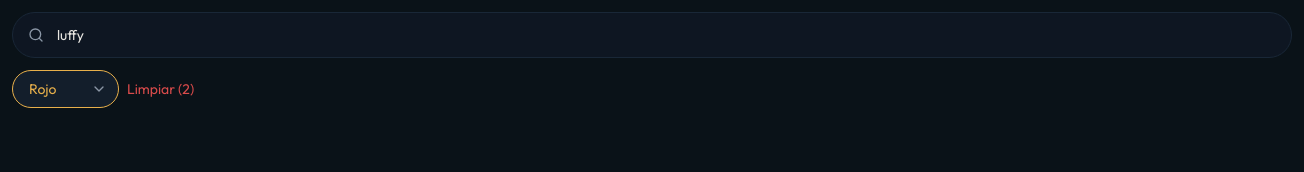
Test: LeaderFilters › Limpiar vacía el campo y navega a la ruta base
Click the button "Limpiar (2)" at (161, 89), box top-left (127, 79), bottom-right (194, 99)
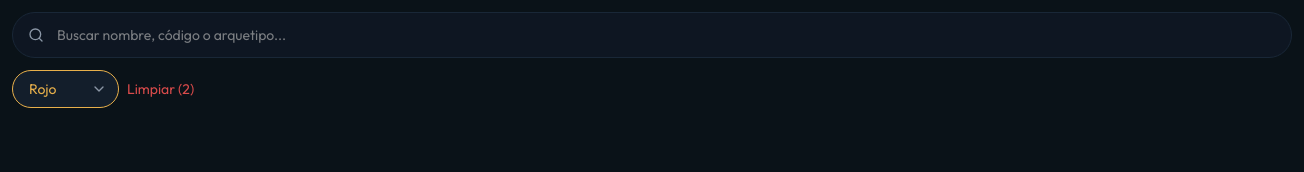
expect the search field is empty: met, box top-left (12, 12), bottom-right (1292, 58)
